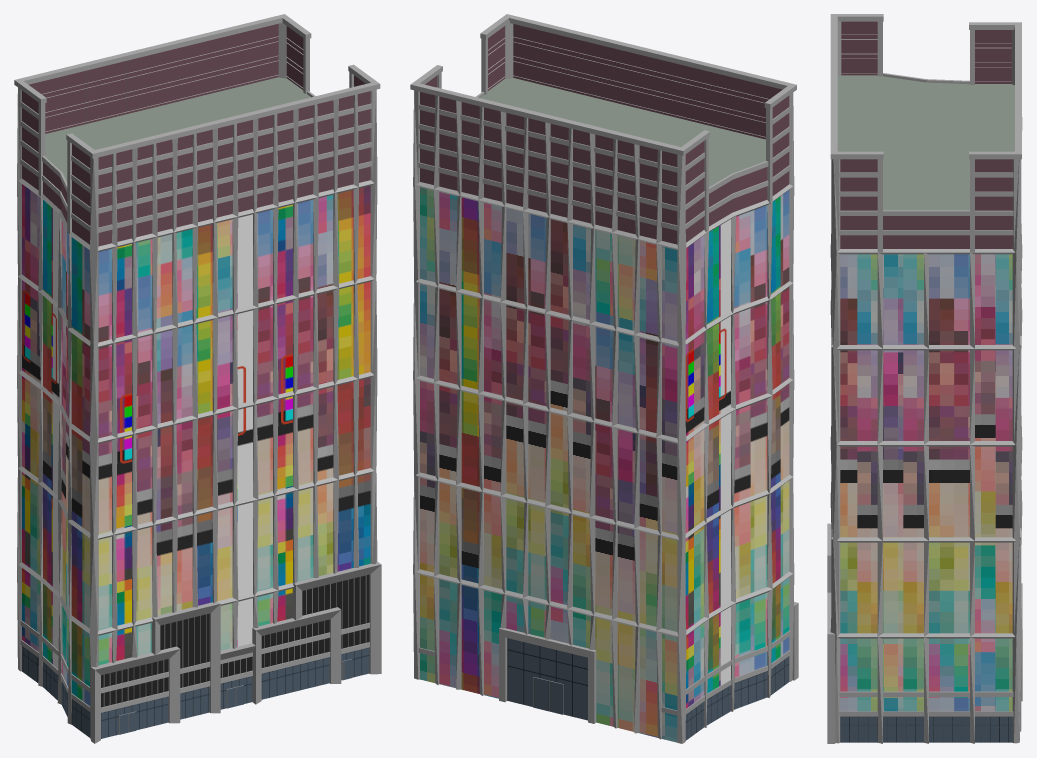
File: Building_ld_01.FBX
The picture shows the model from 3 angles, left to right: view 1: azimuth 30°, elevation 25°; view 2: azimuth 150°, elevation 25°; view 3: azimuth 270°, elevation 25°; orthographic projection.
Visible parts, largest first — view 1: Building_ld_01_night2, Building_ld_01, Building_ld_01_night1; view 2: Building_ld_01_night2, Building_ld_01, Building_ld_01_night1; view 3: Building_ld_01_night2, Building_ld_01, Building_ld_01_night1.
Part boxes in pixels (x1=…): Building_ld_01_night2: x1=22, y1=23, x2=370, y2=707; Building_ld_01: x1=14, y1=14, x2=381, y2=743; Building_ld_01_night1: x1=22, y1=646, x2=369, y2=738; Building_ld_01_night2: x1=420, y1=24, x2=789, y2=742; Building_ld_01: x1=410, y1=14, x2=798, y2=743; Building_ld_01_night1: x1=507, y1=638, x2=789, y2=740; Building_ld_01_night2: x1=840, y1=21, x2=1012, y2=711; Building_ld_01: x1=827, y1=14, x2=1022, y2=743; Building_ld_01_night1: x1=840, y1=716, x2=1012, y2=742.
Size of the model in its own units: 62.16 by 122 by 36.51.
